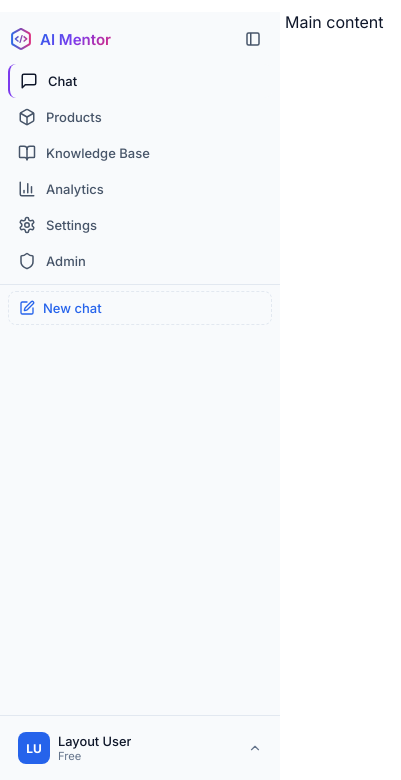
Test case: Layout › renders theme entry in account menu
The width and height of the screenshot is (401, 780).
Click the button with class "account-badge-btn".
click(34, 748)  # box top-left (10, 724), bottom-right (270, 772)
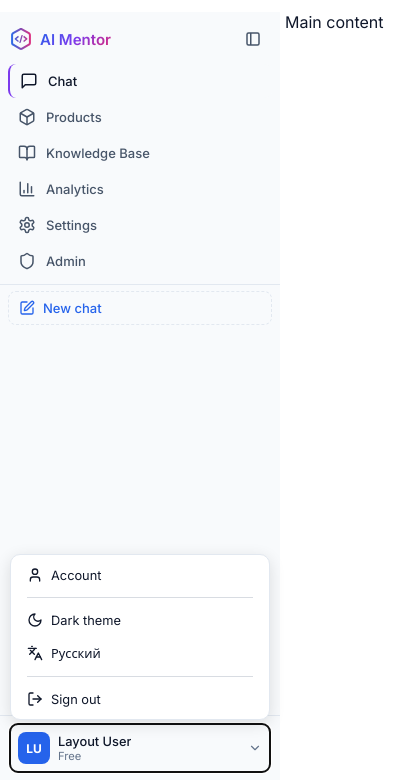
Result: the button "Dark theme" is shown at top-left (15, 604), bottom-right (265, 636)
